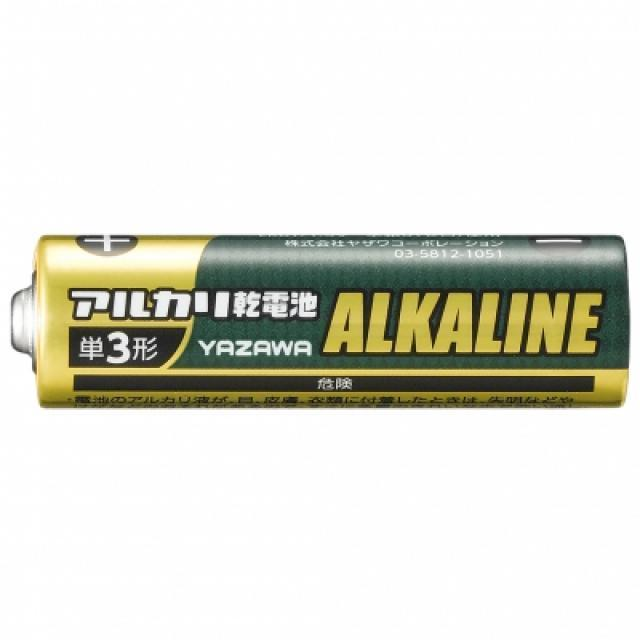AA: (4, 234, 630, 412)
